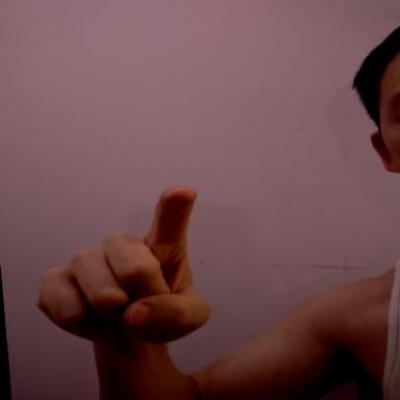hand: (24, 176, 218, 356)
